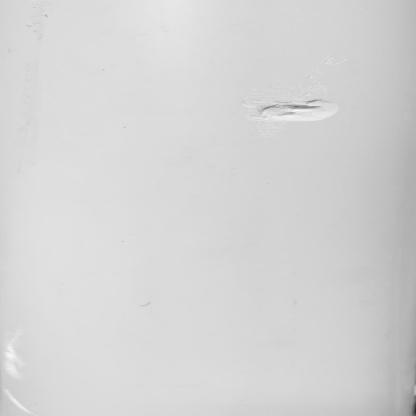sunshang: (248, 88, 343, 129), (4, 357, 42, 416)
